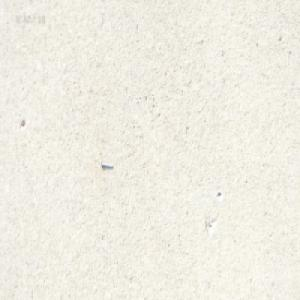Nail: (100, 160, 113, 168)
